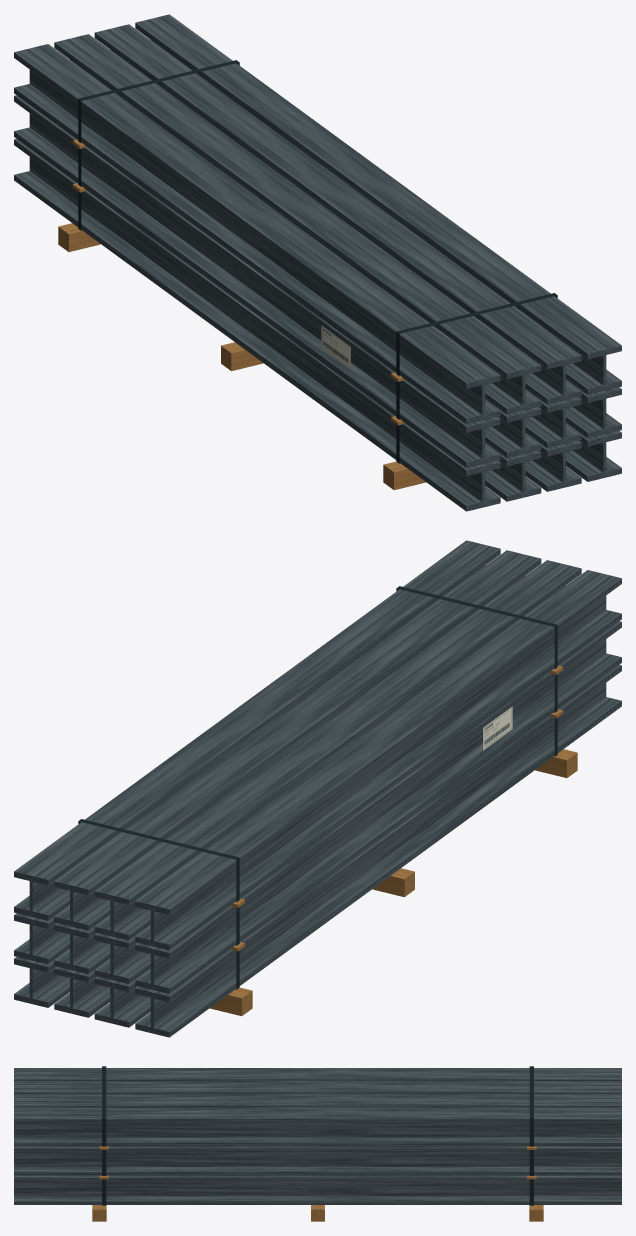
File: steel_beams.glb
The picture shows the model from 3 angles, top to bottom: view 1: azimuth 30°, elevation 25°; view 2: azimuth 150°, elevation 25°; view 3: azimuth 270°, elevation 25°; orthographic projection. The views are drawn at different scales.
Parts seen in each view (by area): view 1: Mill-scale steel, Pine dunnage, Steel banding, Packing label; view 2: Mill-scale steel, Pine dunnage, Steel banding, Packing label; view 3: Mill-scale steel, Steel banding, Pine dunnage.
Part boxes in pixels (x1,y1,x2,y2): Mill-scale steel: (14, 14, 621, 511); Pine dunnage: (58, 139, 426, 490); Steel banding: (78, 60, 557, 463); Packing label: (321, 325, 350, 369); Mill-scale steel: (14, 540, 621, 1037); Pine dunnage: (209, 665, 577, 1016); Steel banding: (78, 586, 557, 989); Packing label: (483, 706, 512, 750); Mill-scale steel: (14, 1068, 621, 1204); Steel banding: (102, 1066, 533, 1205); Pine dunnage: (92, 1146, 543, 1221).
Bounding box in the file's own units: 1.5 × 1.15 × 6.4.
Materials: 4 (3 with a texture image).
